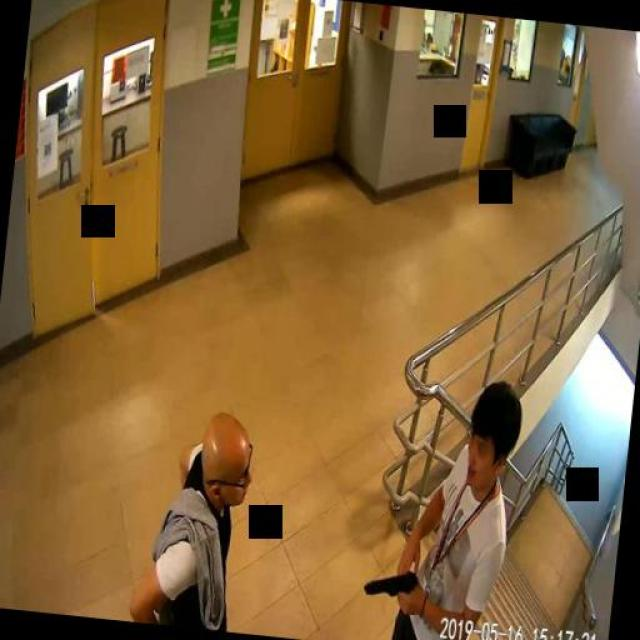gun: (362, 565, 418, 614)
